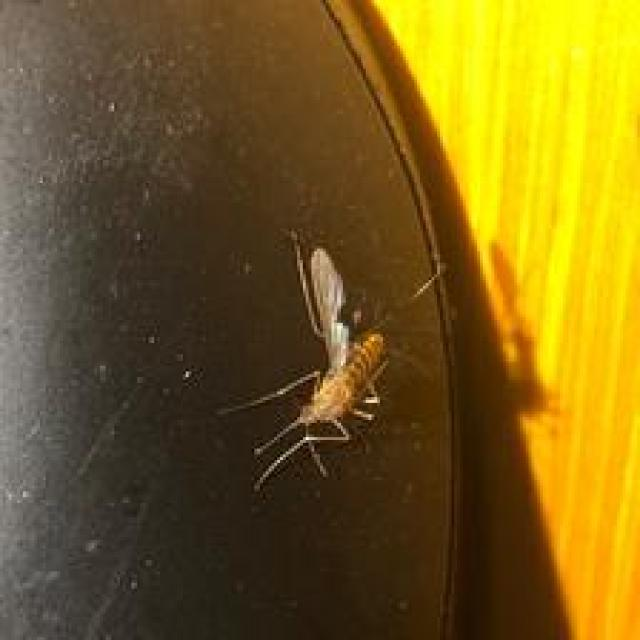Culex: (216, 230, 444, 493)
